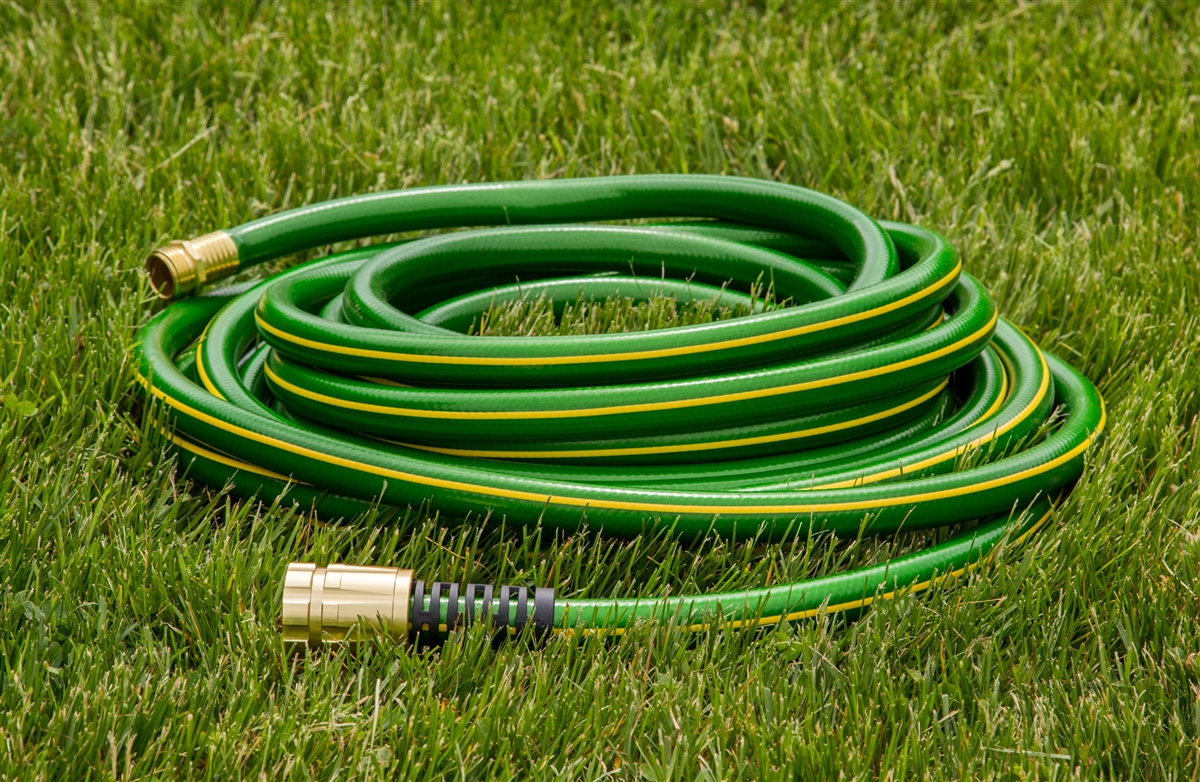Nonrec_Tangler: (77, 132, 1148, 646)
